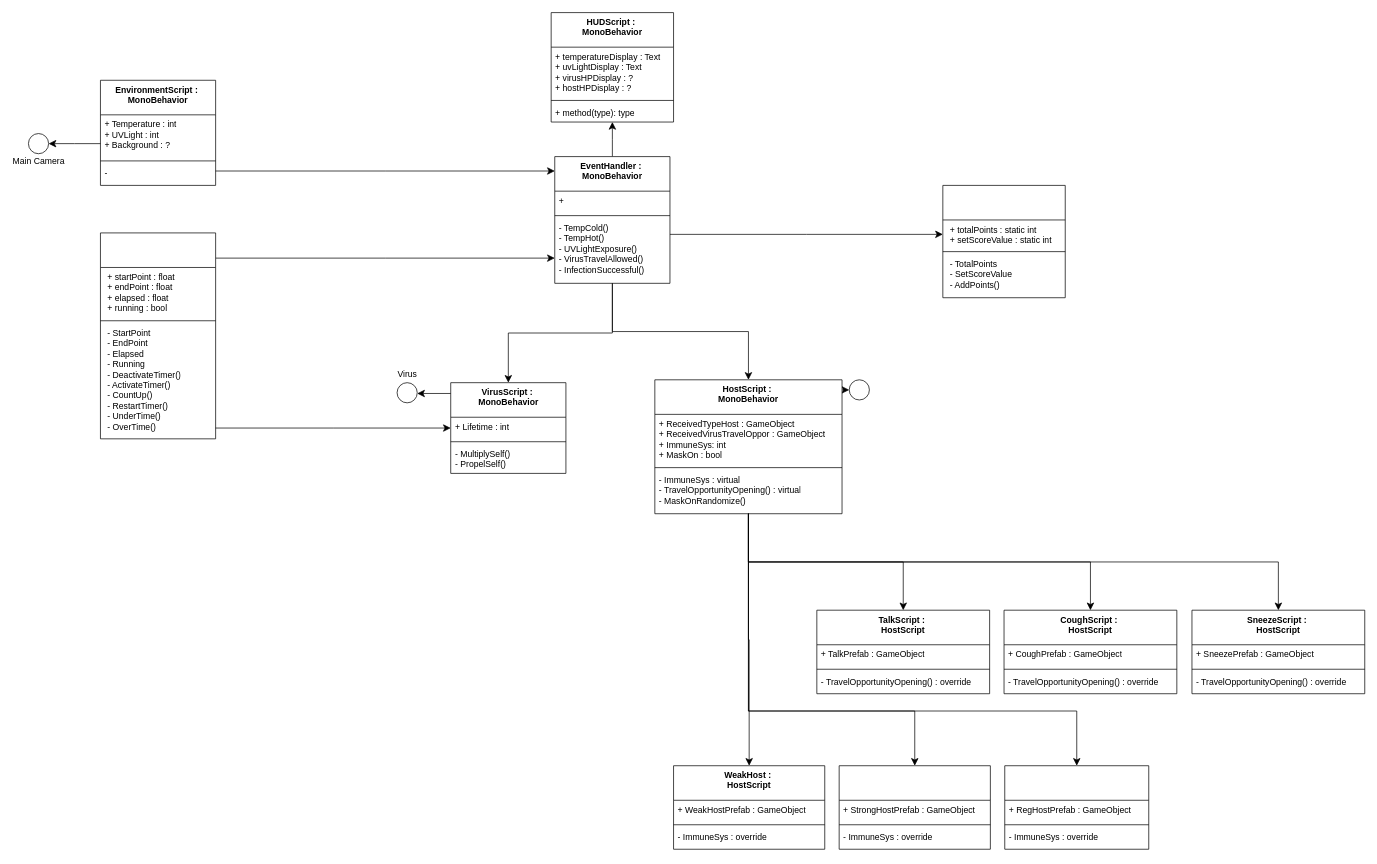
This 1377x864 diagram has some shape labels left out. The shapes that lost their labels are listed below. From the top down, each one's box as (x1, y1, x2, y2) in pixels, then its label:
(942, 185, 1065, 298): ScoreBoardScript : MonoBehavior
(100, 232, 216, 439): TimerScript : MonoBehavior
(849, 379, 869, 400): Host
(838, 765, 990, 849): StrongHost : HostScript
(1004, 765, 1149, 849): RegHost : HostScript
